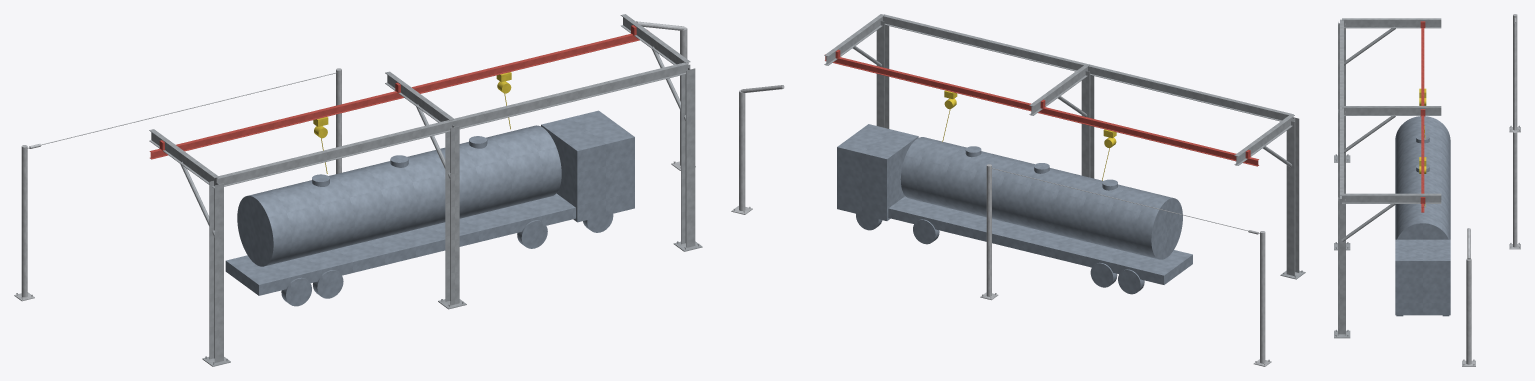
File: fall-protection-anchor-structures.glb
3 views of the same model, side by side, from view 1: azimuth 30°, elevation 25°; view 2: azimuth 150°, elevation 25°; view 3: azimuth 270°, elevation 25° (orthographic). The views are drawn at different scales.
Visible parts, largest first — view 1: Tanker(context), PortalPosts&Arms, RigidRail, HorizontalLifeline, DavitAnchorPost, TrolleyAnchors; view 2: Tanker(context), PortalPosts&Arms, RigidRail, HorizontalLifeline, DavitAnchorPost, TrolleyAnchors; view 3: Tanker(context), PortalPosts&Arms, HorizontalLifeline, DavitAnchorPost, RigidRail, TrolleyAnchors.
Part boxes in pixels (x1,y1,x2,y2): Tanker(context): (225,110,634,306); PortalPosts&Arms: (149,14,702,366); RigidRail: (149,25,639,159); HorizontalLifeline: (14,68,341,301); DavitAnchorPost: (636,21,695,170); TrolleyAnchors: (313,72,511,173); Tanker(context): (837,124,1192,294); PortalPosts&Arms: (824,14,1305,279); RigidRail: (825,49,1258,166); HorizontalLifeline: (980,164,1271,366); DavitAnchorPost: (731,85,784,214); TrolleyAnchors: (942,90,1116,180); Tanker(context): (1395,116,1450,316); PortalPosts&Arms: (1334,18,1441,338); HorizontalLifeline: (1509,14,1520,249); DavitAnchorPost: (1462,228,1475,366); RigidRail: (1420,21,1425,212); TrolleyAnchors: (1419,88,1426,206).
Size of the model in its own units: 24.55 by 6.71 by 8.1.
Materials: 5 (5 with a texture image).
